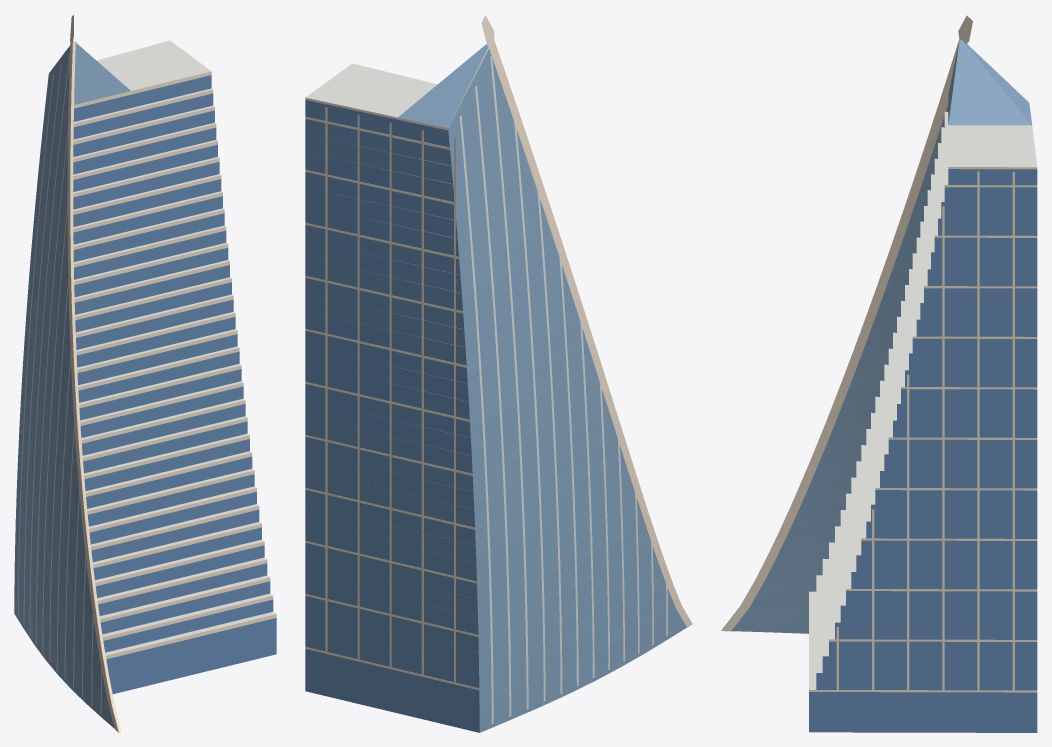
Rendered from atx-google-tower.glb.
3 views of the same model, side by side, from view 1: azimuth 30°, elevation 25°; view 2: azimuth 150°, elevation 25°; view 3: azimuth 270°, elevation 25° (orthographic). The views are drawn at different scales.
Parts seen in each view (by area): view 1: Google Tower (Block 185); view 2: Google Tower (Block 185); view 3: Google Tower (Block 185).
Boxes of the visible parts, x1,y1,x2,y2 form: Google Tower (Block 185): (14,15,276,732); Google Tower (Block 185): (305,15,692,732); Google Tower (Block 185): (721,15,1037,732).
Bounding box in the file's own units: 62.53 × 184 × 80.83.
